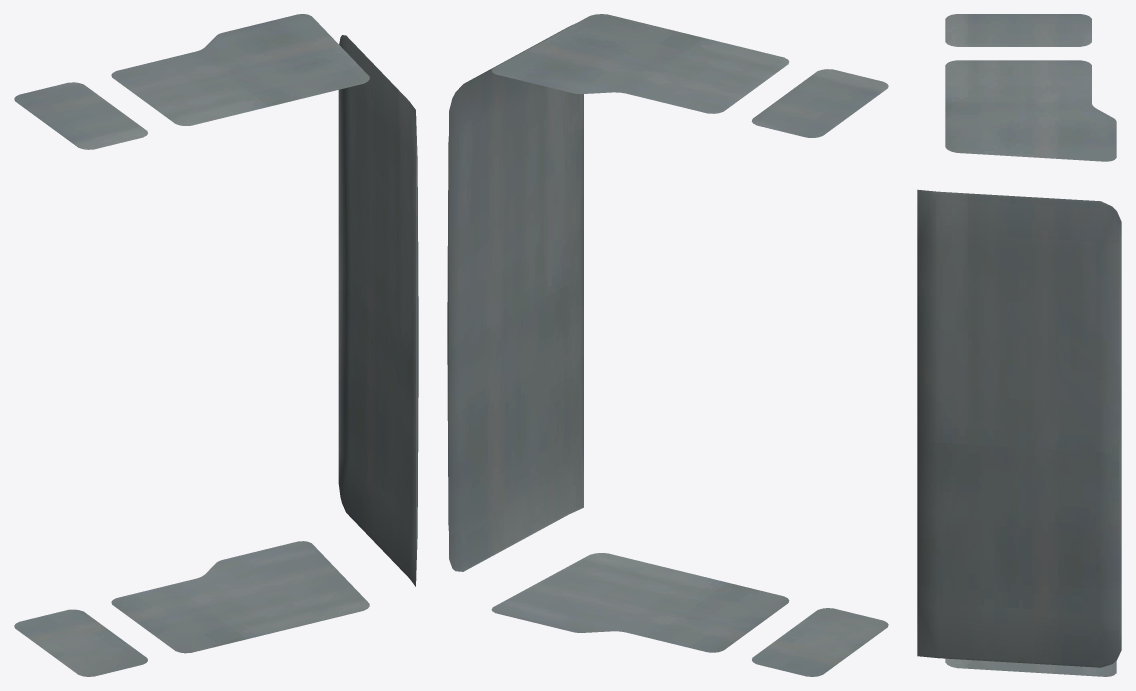
Rendered from windows.obj.
The picture shows the model from 3 angles, left to right: view 1: azimuth 30°, elevation 25°; view 2: azimuth 150°, elevation 25°; view 3: azimuth 270°, elevation 25°; orthographic projection. The views are drawn at different scales.
Parts seen in each view (by area): view 1: windows; view 2: windows; view 3: windows.
Part boxes in pixels (left/top/right/bottom): windows: left=14, top=14, right=418, bottom=676; windows: left=447, top=14, right=888, bottom=676; windows: left=917, top=14, right=1121, bottom=676.
Size of the model in its own units: 1.6 by 2.31 by 0.8308.
1 material, 1 textured.
